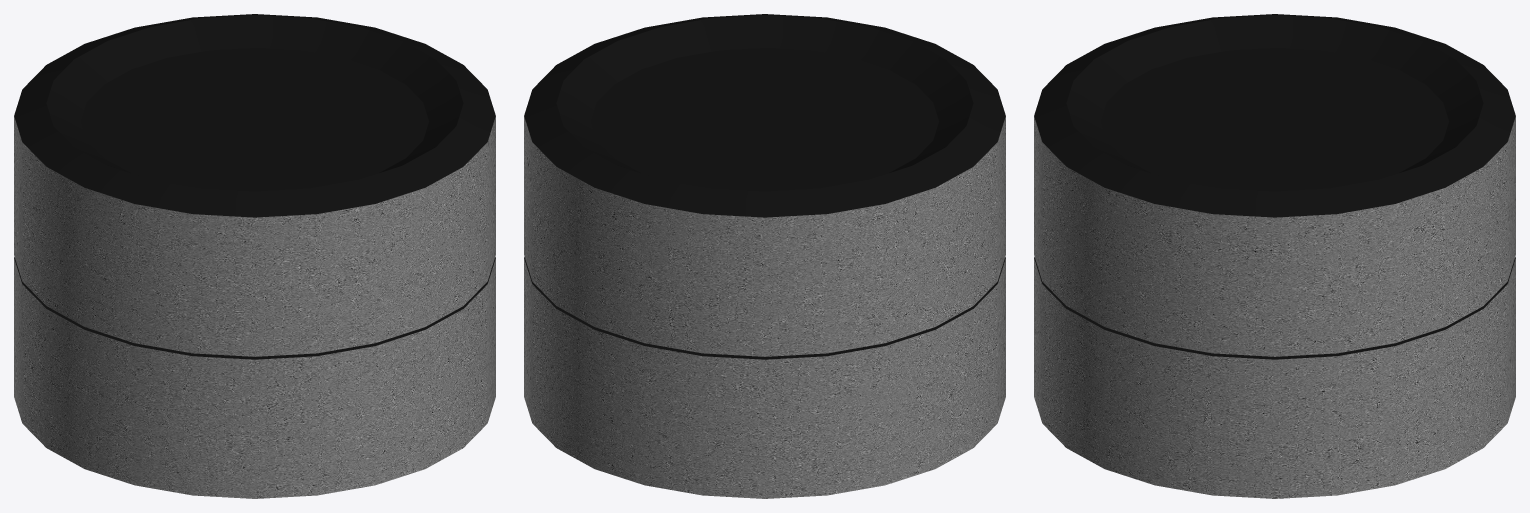
The model's file is FBX_ModuleMedium.fbx.
3 renders of one model, left to right at view 1: azimuth 30°, elevation 25°; view 2: azimuth 150°, elevation 25°; view 3: azimuth 270°, elevation 25°, orthographic.
Parts seen in each view (by area): view 1: Module Medium Export; view 2: Module Medium Export; view 3: Module Medium Export.
Boxes of the visible parts, left/top/right/bottom form: Module Medium Export: left=14, top=14, right=495, bottom=498; Module Medium Export: left=524, top=14, right=1005, bottom=498; Module Medium Export: left=1034, top=14, right=1515, bottom=498.
Bounding box in the file's own units: 1.8 × 1.8 × 1.26.
